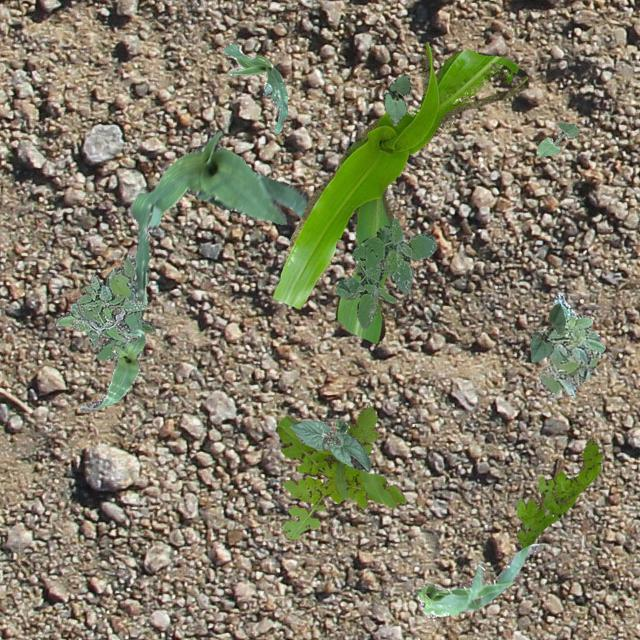crop: (270, 43, 528, 343), (128, 128, 308, 304), (414, 542, 538, 616), (222, 41, 286, 132), (80, 328, 144, 412), (290, 418, 370, 471), (530, 302, 564, 362), (536, 120, 578, 156), (382, 74, 410, 124)
weed: (276, 406, 406, 540), (334, 216, 436, 326), (54, 253, 152, 359), (516, 438, 602, 548), (538, 293, 604, 397), (70, 274, 144, 332)
